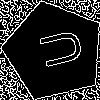U: (29, 26, 85, 73)
